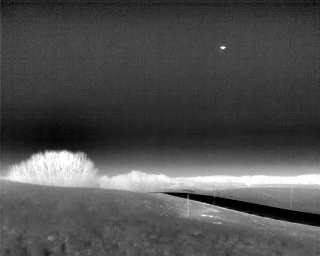AIRPLANE: (219, 43, 228, 52)
